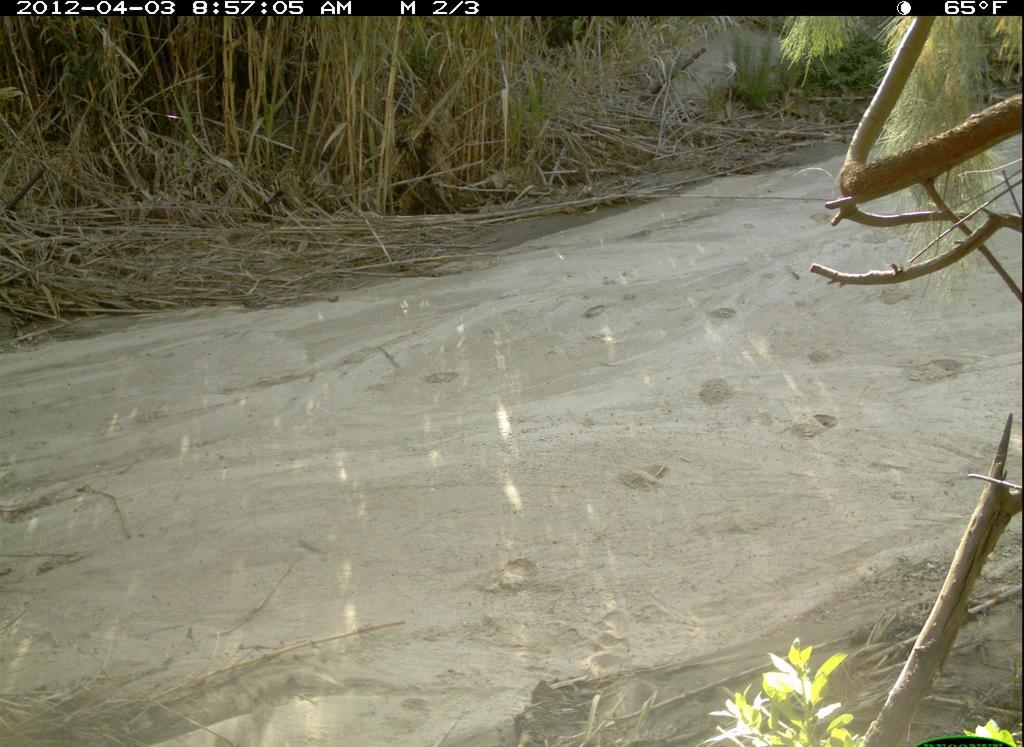bird: (258, 188, 288, 211)
